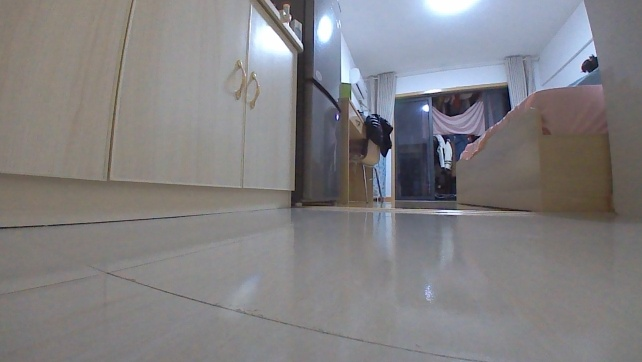bed1: (451, 81, 617, 215)
cupboard: (0, 0, 307, 232)
refrigerator: (278, 0, 345, 208)
